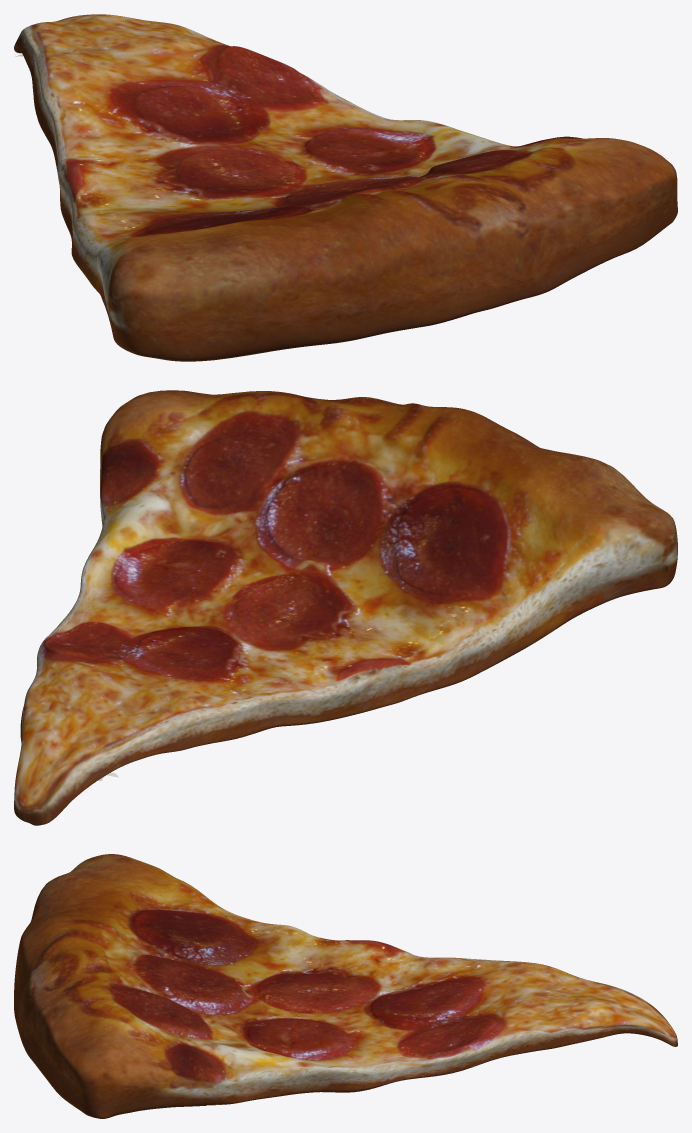
File: Slice.fbx
The picture shows the model from 3 angles, top to bottom: view 1: azimuth 30°, elevation 25°; view 2: azimuth 150°, elevation 25°; view 3: azimuth 270°, elevation 25°; orthographic projection. The views are drawn at different scales.
Visible parts, largest first — view 1: 13917_Pepperoni_v2_l2; view 2: 13917_Pepperoni_v2_l2; view 3: 13917_Pepperoni_v2_l2.
Part boxes in pixels (<box>): 13917_Pepperoni_v2_l2: <box>14,14,677,361</box>; 13917_Pepperoni_v2_l2: <box>14,390,677,825</box>; 13917_Pepperoni_v2_l2: <box>14,854,677,1118</box>.
Size of the model in its own units: 1101 by 263 by 1436.
